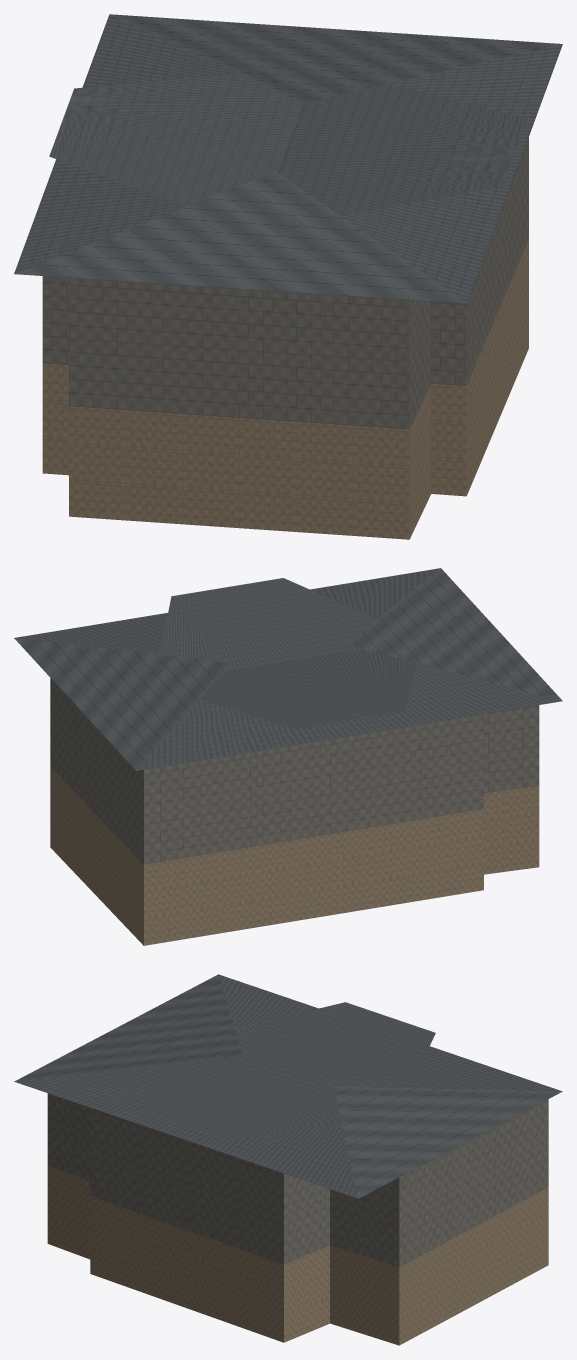
Rendered from bld_c1_-8_594.gltf.
3 views of the same model, one above another, from view 1: azimuth 30°, elevation 25°; view 2: azimuth 150°, elevation 25°; view 3: azimuth 270°, elevation 25° (orthographic). The views are drawn at different scales.
Parts seen in each view (by area): view 1: bld_c1_-8_594; view 2: bld_c1_-8_594; view 3: bld_c1_-8_594.
Boxes of the visible parts, left/top/right/bottom form: bld_c1_-8_594: left=14, top=14, right=562, bottom=539; bld_c1_-8_594: left=14, top=568, right=562, bottom=945; bld_c1_-8_594: left=14, top=974, right=562, bottom=1345.
Size of the model in its own units: 31.29 by 12.3 by 32.33.
Materials: 3 (3 with a texture image).
